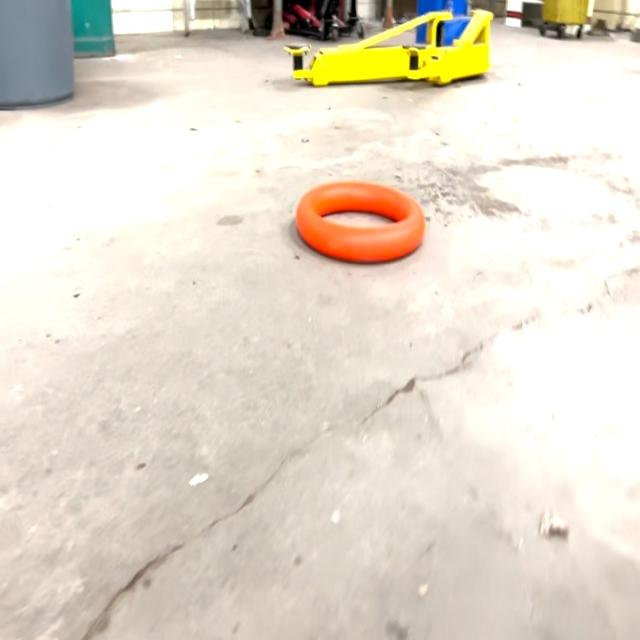note: (292, 178, 427, 266)
